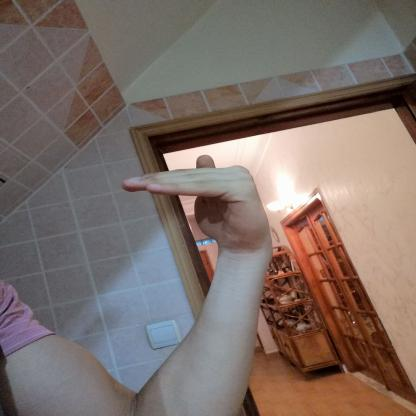KHAA: (110, 143, 287, 257)
